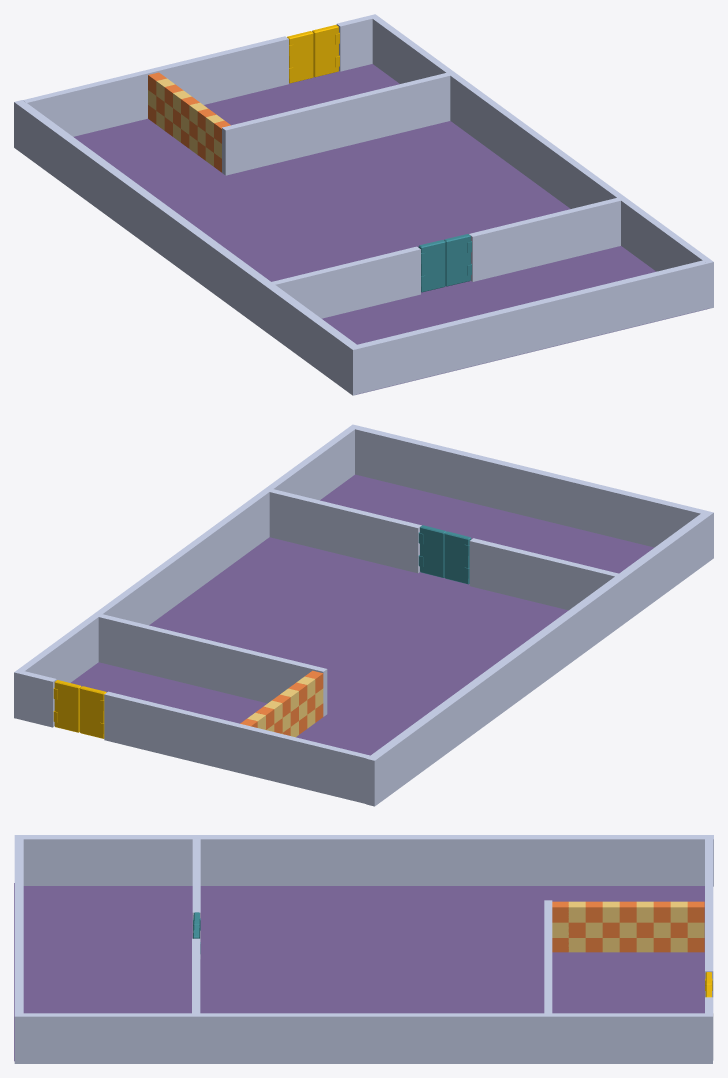
File: maps34.fbx
The picture shows the model from 3 angles, top to bottom: view 1: azimuth 30°, elevation 25°; view 2: azimuth 150°, elevation 25°; view 3: azimuth 270°, elevation 25°; orthographic projection. The views are drawn at different scales.
Visible parts, largest first — view 1: wall_01_08_geo, wall_01_07_geo, wall_01_05_geo, wall_01_06_geo, wall_01_09_geo2, wall_01_09_geo, wall_01_09_geo9, wall_01_09_geo5, wall_01_09_geo10, polySurface6, polySurface165, polySurface2 (+1 smaller); view 2: wall_01_08_geo, wall_01_07_geo, wall_01_05_geo, wall_01_06_geo, wall_01_09_geo, wall_01_09_geo2, wall_01_09_geo9, wall_01_09_geo5, wall_01_09_geo10, polySurface165, polySurface2, polySurface6 (+1 smaller); view 3: wall_01_08_geo, wall_01_06_geo, wall_01_07_geo, wall_01_05_geo, wall_01_09_geo, wall_01_09_geo2, wall_01_09_geo5, wall_01_09_geo9, wall_02_0101_geo, wall_02_0106_geo, wall_02_0117_geo, wall_02_0126_geo (+4 smaller).
Part boxes in pixels (box(x1,y1,x2,y2)): wall_01_08_geo: box(74, 64, 709, 394); wall_01_07_geo: box(14, 100, 361, 395); wall_01_05_geo: box(357, 260, 707, 393); wall_01_06_geo: box(369, 14, 713, 309); wall_01_09_geo2: box(222, 73, 450, 175); wall_01_09_geo: box(23, 36, 288, 136); wall_01_09_geo9: box(469, 198, 620, 281); wall_01_09_geo5: box(272, 246, 420, 318); wall_01_09_geo10: box(336, 16, 372, 71); polySurface6: box(444, 234, 471, 286); polySurface165: box(312, 25, 339, 77); polySurface2: box(418, 240, 445, 292); wall_01_08_geo: box(71, 474, 654, 755); wall_01_07_geo: box(366, 510, 713, 806); wall_01_05_geo: box(355, 426, 704, 547); wall_01_06_geo: box(14, 424, 358, 719); wall_01_09_geo: box(104, 691, 370, 803); wall_01_09_geo2: box(98, 614, 327, 716); wall_01_09_geo9: box(269, 489, 421, 573); wall_01_09_geo5: box(469, 538, 618, 610); wall_01_09_geo10: box(20, 671, 56, 727); polySurface165: box(53, 680, 81, 732); polySurface2: box(444, 531, 471, 584); polySurface6: box(418, 525, 446, 577); wall_01_08_geo: box(14, 883, 704, 1061); wall_01_06_geo: box(14, 1013, 712, 1063); wall_01_07_geo: box(14, 835, 713, 886); wall_01_05_geo: box(14, 839, 23, 1013); wall_01_09_geo: box(705, 839, 713, 997); wall_01_09_geo2: box(544, 900, 552, 1013); wall_01_09_geo5: box(192, 839, 200, 958); wall_01_09_geo9: box(192, 938, 200, 1013); wall_02_0101_geo: box(568, 901, 585, 922); wall_02_0106_geo: box(585, 901, 602, 922); wall_02_0117_geo: box(602, 901, 619, 922); wall_02_0126_geo: box(687, 901, 704, 922).
Size of the model in its own units: 73.34 by 9.2 by 119.
3 materials, 3 textured.
